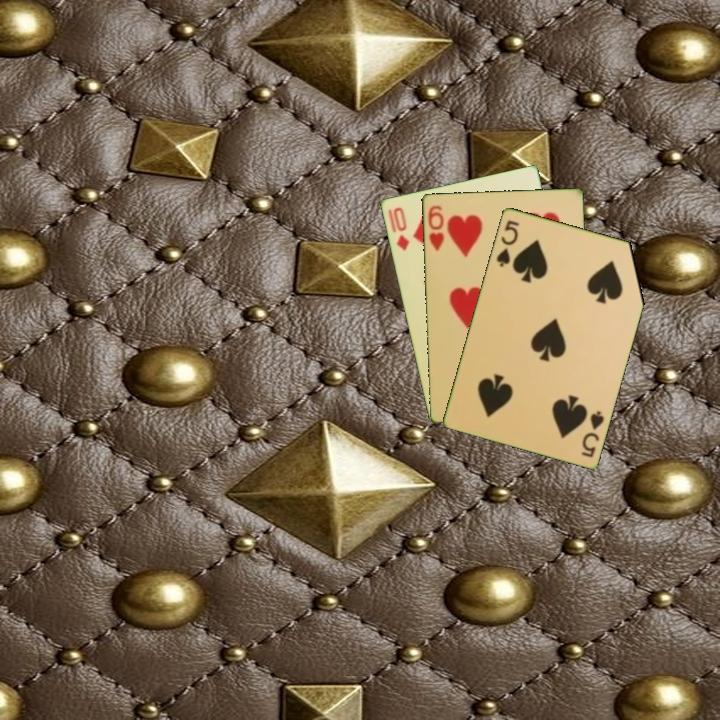10d: (384, 203, 412, 253)
5s: (492, 216, 522, 269), (578, 407, 607, 460)
6h: (424, 201, 447, 254)
